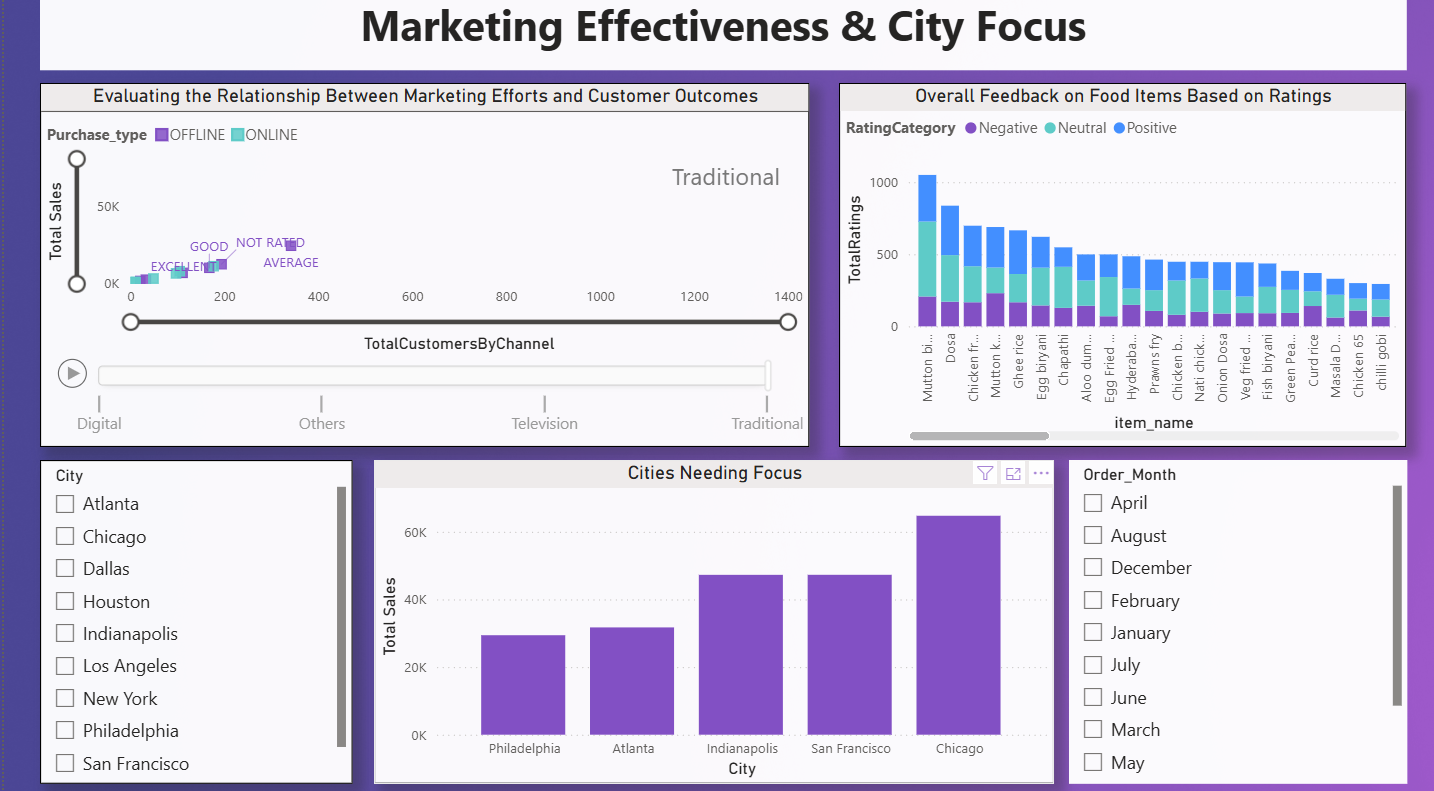

Layout of this report page (visuals, bound fields, positions):
{"tool":"powerbi","page":{"name":"Marketing Effectiveness & City Focus","canvas":[1280,720],"ordinal":3},"visuals":[{"type":"scatterChart","title":"Evaluating the Relationship Between Marketing Efforts and Customer Outcomes","fields":{"Y":["DAX Measures.Total Sales"],"Series":["Fact_Order Details.Purchase_type"],"X":["DAX Measures.TotalCustomersByChannel"],"Category":["Fact_Order Details.Rating_text"],"Play":["Fact_Order Details.Marketing_Channel_Category"]},"box":[32.5,82.5,688.8,326.2],"z":0},{"type":"slicer","fields":{"Values":["Dim_Geography.City"]},"box":[32.5,420,280,290],"z":1000},{"type":"lineStackedColumnComboChart","title":"Overall Feedback on Food Items Based on Ratings","fields":{"Category":["Dim_Menu Items.item_name"],"Y":["DAX Measures.TotalRatings"],"Series":["Fact_Order Details.RatingCategory"]},"box":[747.5,82.5,507.5,326.2],"z":2000},{"type":"lineClusteredColumnComboChart","title":"Cities Needing Focus","fields":{"Category":["Dim_Geography.City"],"Y":["DAX Measures.Total Sales"]},"box":[331.2,420,608.8,290],"z":3000},{"type":"textbox","box":[32.5,0,1223.8,71.2],"z":4000},{"type":"slicer","fields":{"Values":["Fact_Order Details.Order_Month"]},"box":[953.8,420,302.5,290],"z":5000}]}

Visuals, with their boxes in screenshot pixels (x1, y1, x2, y2), scaled from the page's 1280x720 canvas onto the 1434x791 screenshot:
"Evaluating the Relationship Between Marketing Efforts and Customer Outcomes" scatterChart: select_region(36, 91, 808, 449)
slicer - Dim_Geography.City: select_region(36, 461, 350, 780)
"Overall Feedback on Food Items Based on Ratings" lineStackedColumnComboChart: select_region(837, 91, 1406, 449)
"Cities Needing Focus" lineClusteredColumnComboChart: select_region(371, 461, 1053, 780)
textbox: select_region(36, 0, 1407, 78)
slicer - Fact_Order Details.Order_Month: select_region(1069, 461, 1407, 780)
